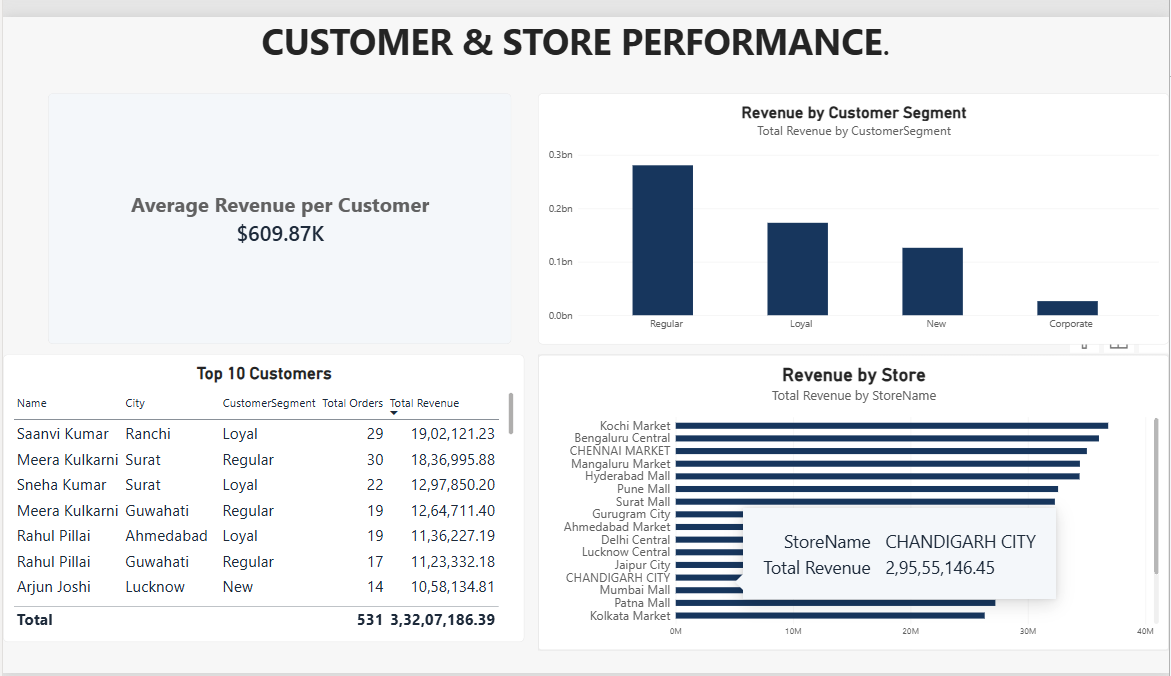

This screenshot's page, from the dashboard's own definition file:
{"tool":"powerbi","page":{"name":"Customers & Stores","canvas":[1920,1080],"ordinal":2},"visuals":[{"type":"tableEx","title":"Top 10 Customers","fields":{"Values":["customers.Name","customers.City","customers.CustomerSegment","order_items.Total Orders","order_items.Total Revenue"]},"box":[0,555.7,858.3,473.4],"z":0},{"type":"clusteredBarChart","title":"Revenue by Store","fields":{"Category":["stores.StoreName"],"Y":["order_items.Total Revenue"]},"box":[881,555.7,1039.5,487.8],"z":1000},{"type":"clusteredColumnChart","title":"Revenue by Customer Segment","fields":{"Category":["customers.CustomerSegment"],"Y":["order_items.Total Revenue"]},"box":[881,125.6,1039.5,413.7],"z":2000},{"type":"textbox","box":[249.1,0,1467.6,142],"z":3000},{"type":"cardVisual","fields":{"Data":["customers.Average Revenue per Customer"]},"box":[74.1,125.6,763.6,413.7],"z":4000}]}

Visuals, with their boxes in screenshot pixels (x1, y1, x2, y2), scaled from the page's 1920x1080 canvas onto the 1171x676 screenshot:
"Top 10 Customers" tableEx: bbox=(0, 348, 523, 644)
"Revenue by Store" clusteredBarChart: bbox=(537, 348, 1170, 653)
"Revenue by Customer Segment" clusteredColumnChart: bbox=(537, 79, 1170, 338)
textbox: bbox=(152, 0, 1047, 89)
cardVisual - customers.Average Revenue per Customer: bbox=(45, 79, 511, 338)
